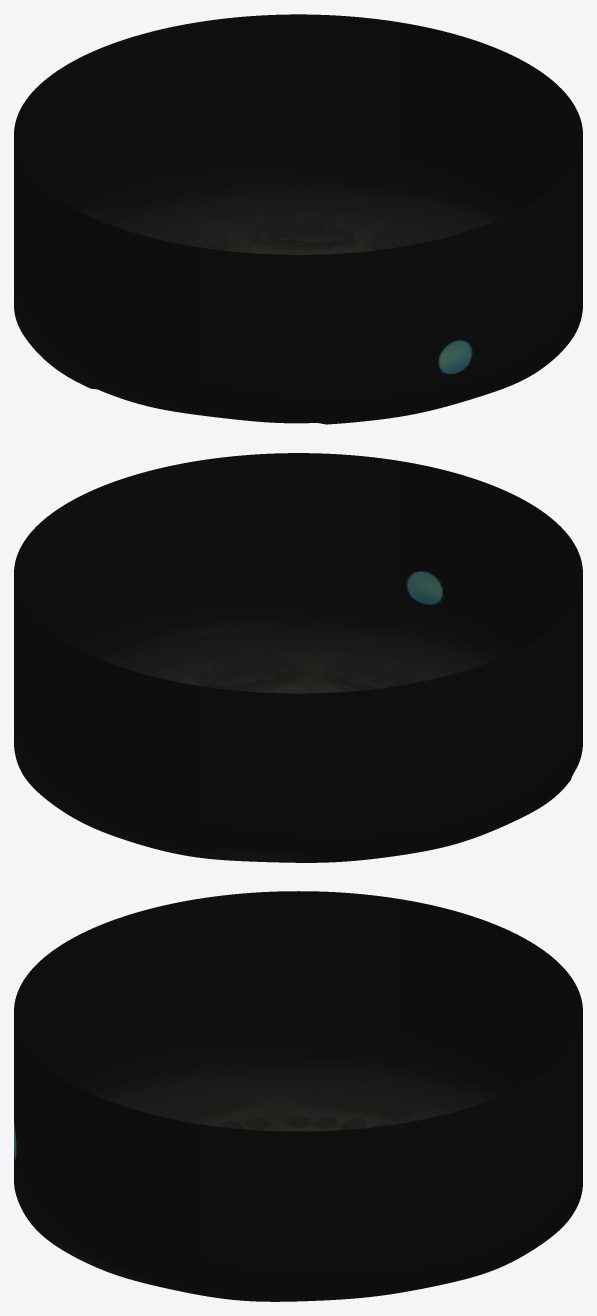
The model's file is low-orbit-panorama.glb.
3 renders of one model, top to bottom at view 1: azimuth 30°, elevation 25°; view 2: azimuth 150°, elevation 25°; view 3: azimuth 270°, elevation 25°, orthographic.
Visible parts, largest first — view 1: LowOrbitPanorama; view 2: LowOrbitPanorama; view 3: LowOrbitPanorama.
Part boxes in pixels (x1=…): LowOrbitPanorama: x1=14, y1=14, x2=582, y2=424; LowOrbitPanorama: x1=14, y1=453, x2=582, y2=862; LowOrbitPanorama: x1=14, y1=891, x2=582, y2=1301.
Size of the model in its own units: 380 by 138 by 380.
1 material, 1 textured.
